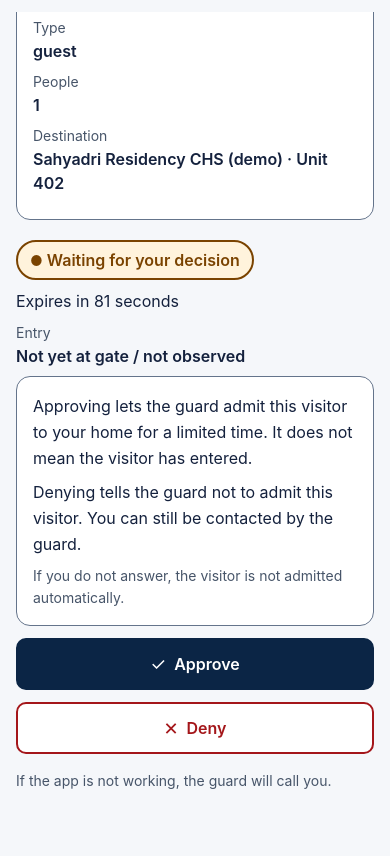
Test: approval decision screen › 409 already_decided: the canonical result of the OTHER device is shown (denied), not the approval we tried
(page scrolled)
Click the button "✓ Approve": (195, 664) x1=16 y1=638 x2=374 y2=690
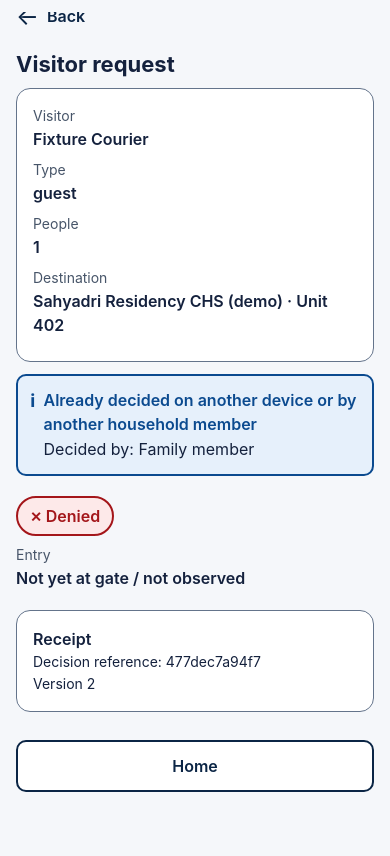
Expected: the message with test id "approval-decided-elsewhere" is shown, x1=16 y1=374 x2=374 y2=476
Expected: the element labelled "Denied" is shown, x1=16 y1=496 x2=114 y2=536
Expected: the text "Already decided on another device or by another household member" is shown, x1=44 y1=388 x2=360 y2=436
